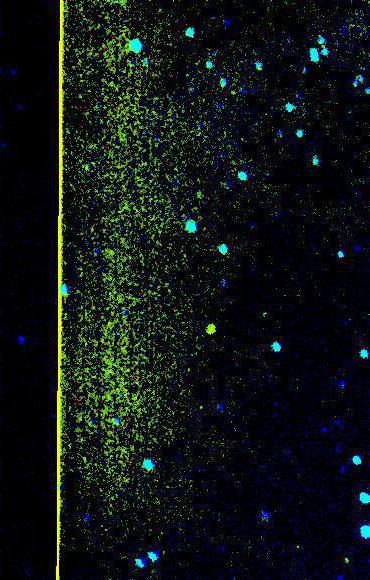star: (334, 541, 364, 571)
